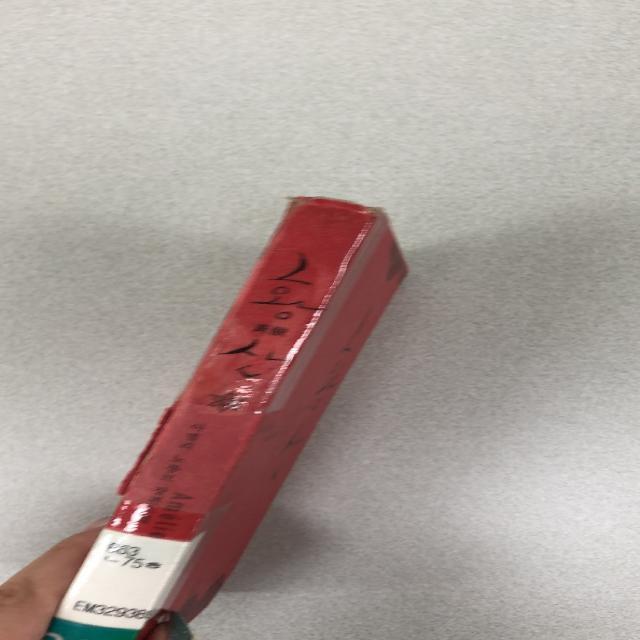Ripped: (111, 391, 189, 504)
Wornout: (203, 415, 263, 501)
